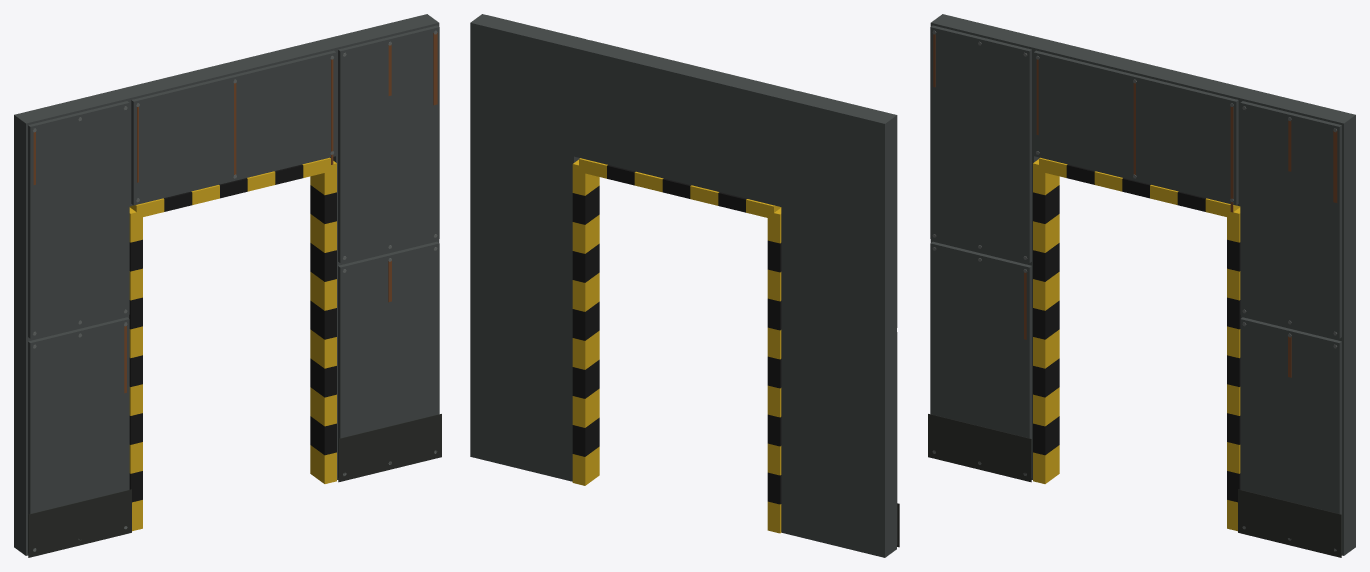
Rendered from wall_doorway.glb.
3 renders of one model, left to right at view 1: azimuth 30°, elevation 25°; view 2: azimuth 150°, elevation 25°; view 3: azimuth 330°, elevation 25°, orthographic.
Visible parts, largest first — view 1: surf_metal_wall_doorway; view 2: surf_metal_wall_doorway; view 3: surf_metal_wall_doorway.
Part boxes in pixels (x1,y1,x2,y2): surf_metal_wall_doorway: [14, 14, 441, 557]; surf_metal_wall_doorway: [470, 14, 899, 557]; surf_metal_wall_doorway: [928, 14, 1355, 557].
Size of the model in its own units: 4 by 4 by 0.265.
